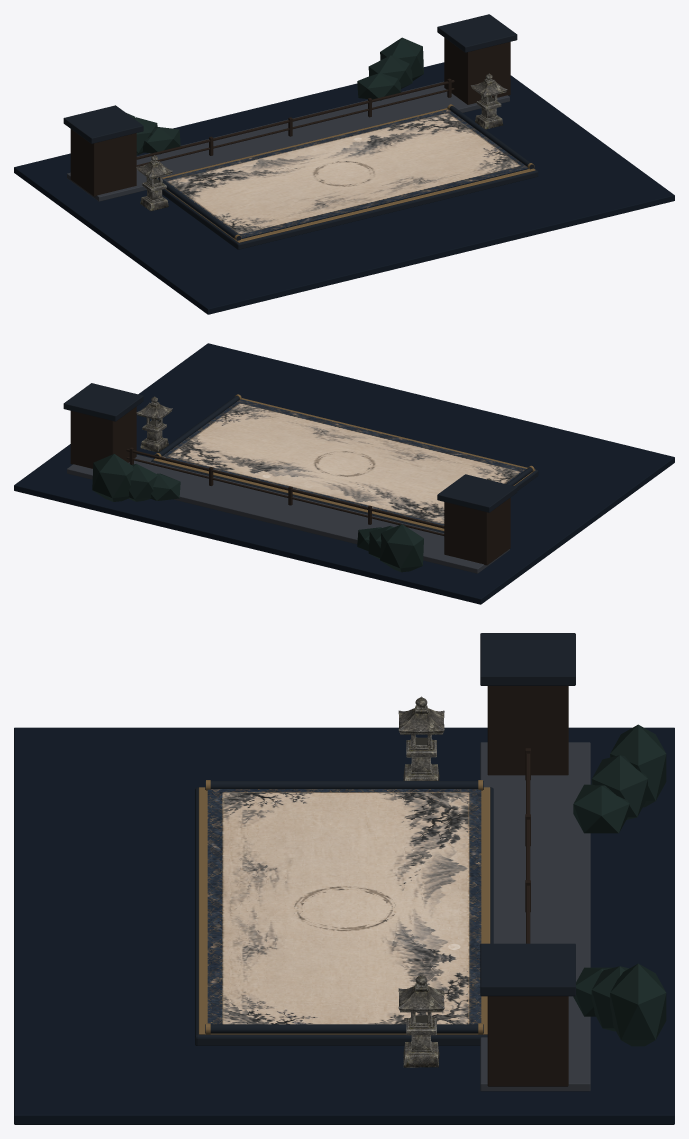
Rendered from duel-arena-v3.glb.
The picture shows the model from 3 angles, top to bottom: view 1: azimuth 30°, elevation 25°; view 2: azimuth 150°, elevation 25°; view 3: azimuth 270°, elevation 25°; orthographic projection. The views are drawn at different scales.
Visible parts, largest first — view 1: Table surround, ApprovedDuelMat, Rear terrace, Pavilion footprint, Pavilion footprint.001, Lacquer plinth, Pavilion roof mass, Pavilion roof mass.001, Brass perimeter, StoneLanternLeft, StoneLanternRight, Rear rail upper (+7 smaller); view 2: Table surround, ApprovedDuelMat, Rear terrace, Pavilion footprint, Pavilion footprint.001, Pavilion roof mass.001, Pavilion roof mass, Garden mass placeholder.002, Brass perimeter, Garden mass placeholder.005, StoneLanternRight, Rear rail upper (+5 smaller); view 3: Table surround, ApprovedDuelMat, Rear terrace, Pavilion footprint.001, Pavilion footprint, Pavilion roof mass.001, Pavilion roof mass, Lacquer plinth, Brass perimeter, Garden mass placeholder.005, StoneLanternRight, StoneLanternLeft (+8 smaller).
Part boxes in pixels (bbox=[...]): Table surround: bbox=[14, 62, 674, 314]; ApprovedDuelMat: bbox=[162, 109, 527, 237]; Rear terrace: bbox=[67, 81, 509, 201]; Pavilion footprint: bbox=[70, 129, 136, 196]; Pavilion footprint.001: bbox=[444, 37, 510, 104]; Lacquer plinth: bbox=[162, 168, 538, 249]; Pavilion roof mass: bbox=[63, 105, 143, 143]; Pavilion roof mass.001: bbox=[437, 14, 517, 52]; Brass perimeter: bbox=[162, 108, 535, 242]; StoneLanternLeft: bbox=[136, 155, 172, 211]; StoneLanternRight: bbox=[471, 73, 507, 129]; Rear rail upper: bbox=[136, 80, 454, 159]; Table surround: bbox=[14, 343, 674, 604]; ApprovedDuelMat: bbox=[162, 399, 526, 525]; Rear terrace: bbox=[67, 454, 509, 573]; Pavilion footprint: bbox=[444, 497, 510, 565]; Pavilion footprint.001: bbox=[70, 406, 136, 468]; Pavilion roof mass.001: bbox=[63, 383, 143, 421]; Pavilion roof mass: bbox=[437, 474, 517, 512]; Garden mass placeholder.002: bbox=[380, 524, 423, 572]; Brass perimeter: bbox=[153, 398, 535, 531]; Garden mass placeholder.005: bbox=[92, 454, 133, 501]; StoneLanternRight: bbox=[136, 396, 172, 452]; Rear rail upper: bbox=[126, 449, 444, 528]; Table surround: bbox=[14, 727, 674, 1124]; ApprovedDuelMat: bbox=[207, 789, 481, 1024]; Rear terrace: bbox=[480, 742, 590, 1091]; Pavilion footprint.001: bbox=[487, 996, 568, 1086]; Pavilion footprint: bbox=[487, 686, 568, 775]; Pavilion roof mass.001: bbox=[480, 943, 575, 996]; Pavilion roof mass: bbox=[480, 633, 575, 685]; Lacquer plinth: bbox=[195, 787, 493, 1045]; Brass perimeter: bbox=[198, 787, 490, 1034]; Garden mass placeholder.005: bbox=[610, 963, 666, 1046]; StoneLanternRight: bbox=[398, 974, 444, 1067]; StoneLanternLeft: bbox=[398, 696, 444, 780].
Size of the model in its own units: 25 by 3.65 by 18.
9 materials, 2 textured.
